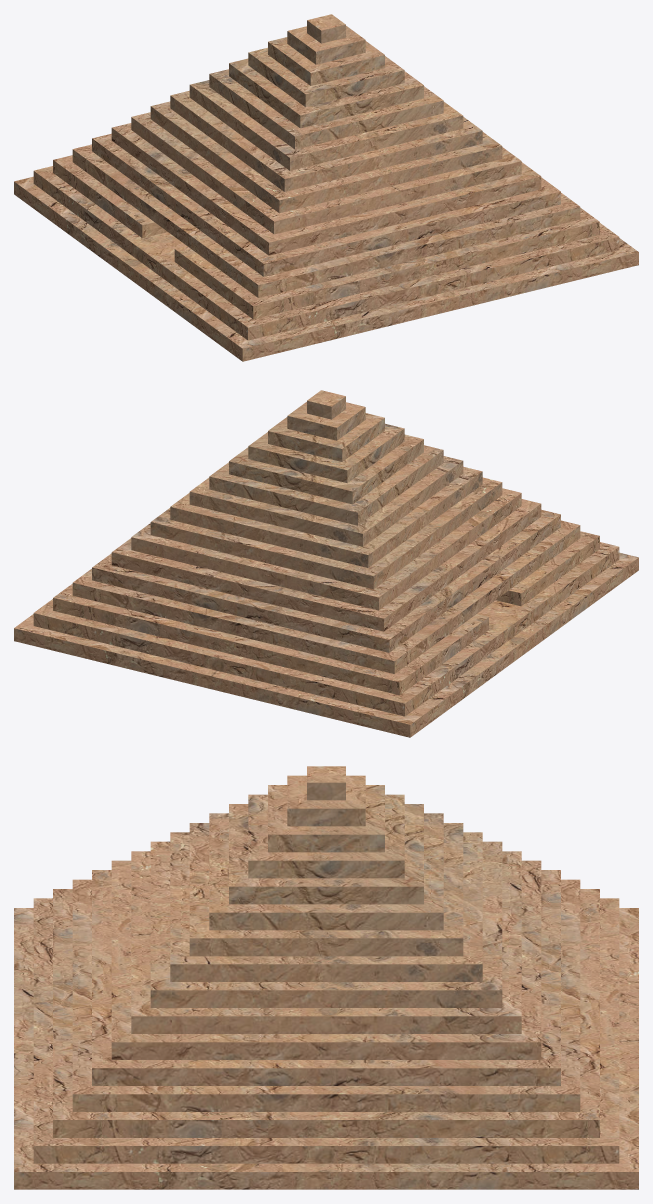
3 renders of one model, top to bottom at view 1: azimuth 30°, elevation 25°; view 2: azimuth 150°, elevation 25°; view 3: azimuth 270°, elevation 25°, orthographic. The views are drawn at different scales.
Visible parts, largest first — view 1: Egyptian Pyramid with the inside (full).stl; view 2: Egyptian Pyramid with the inside (full).stl; view 3: Egyptian Pyramid with the inside (full).stl.
Boxes of the visible parts, x1=… form: Egyptian Pyramid with the inside (full).stl: x1=14, y1=14, x2=638, y2=361; Egyptian Pyramid with the inside (full).stl: x1=14, y1=390, x2=638, y2=737; Egyptian Pyramid with the inside (full).stl: x1=14, y1=766, x2=638, y2=1189.
Bounding box in the file's own units: 64 × 32 × 64.
1 material, 1 textured.
